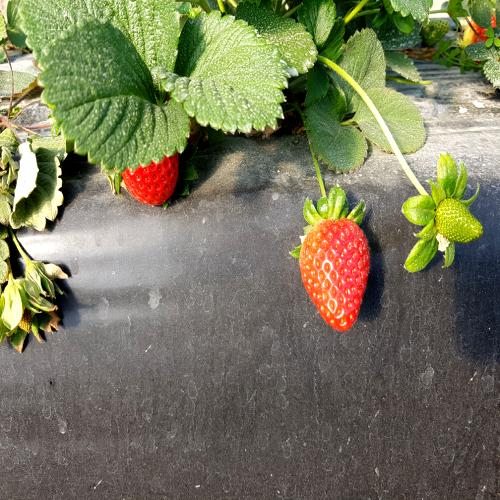ripe: (298, 211, 371, 346)
